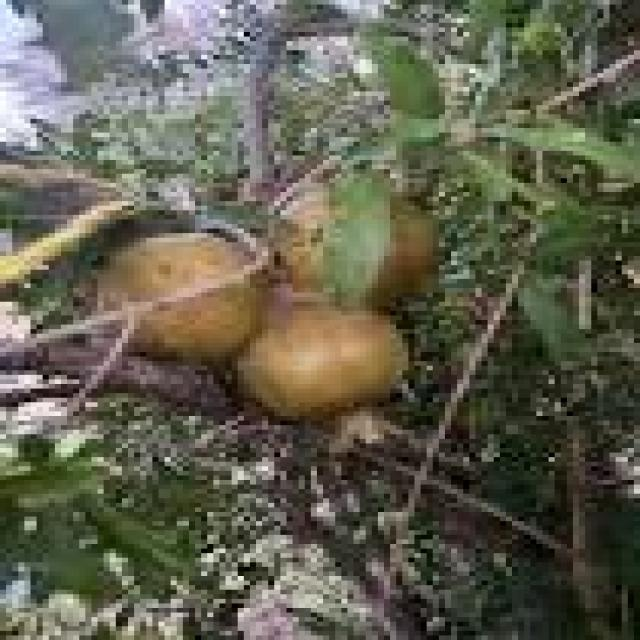Unripe: (241, 298, 425, 452)
